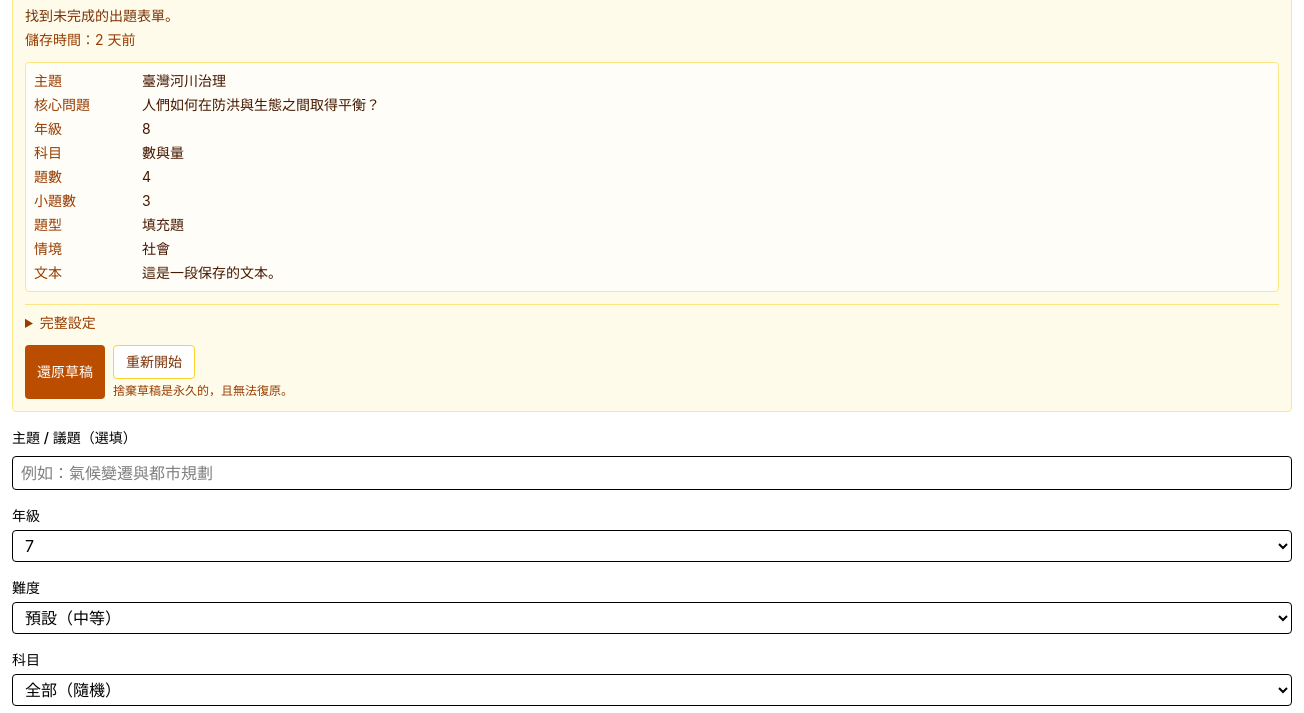
Test: ParamForm draft summary › renders curriculum instructions and preserves unknown draft codes in the full settings
Click the heading "完整設定": click(68, 322) [40,314,96,331]
(page scrolled)
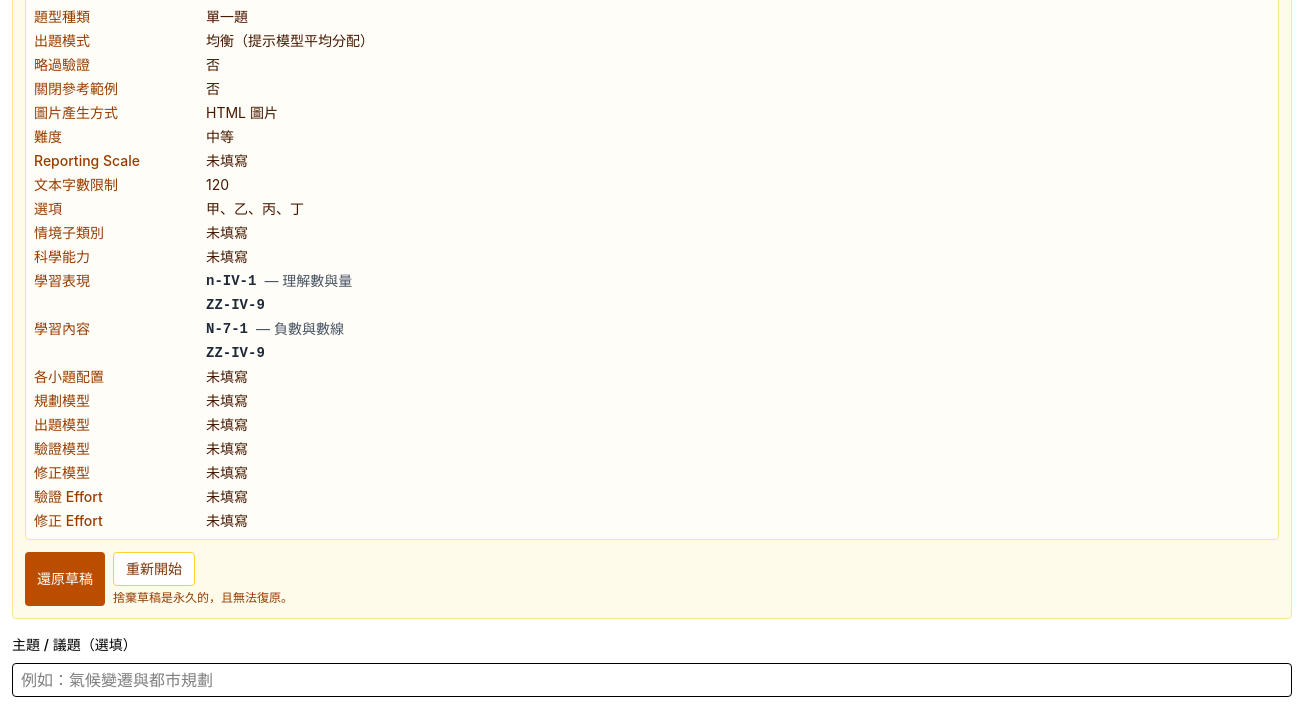
Expected: the list item "ZZ-IV-9" below "N-7-1" does not show "—", [206,345,265,361]
Now the list item "ZZ-IV-9" below "N-7-1" is shown, box [206,345,265,361]
